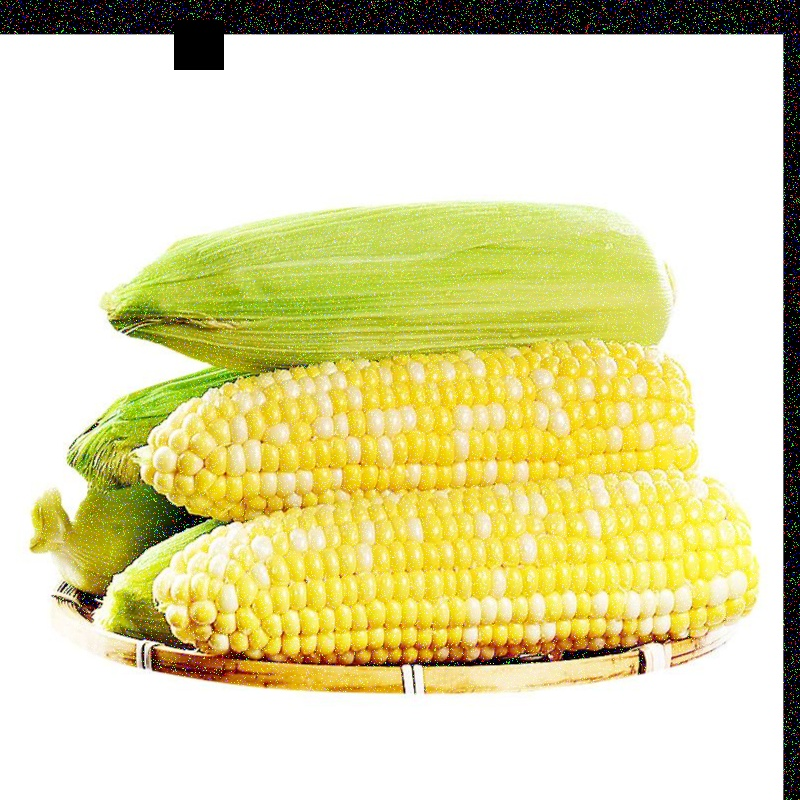corn: (138, 339, 697, 521), (176, 485, 754, 647)
corn_plant: (107, 203, 686, 348)
